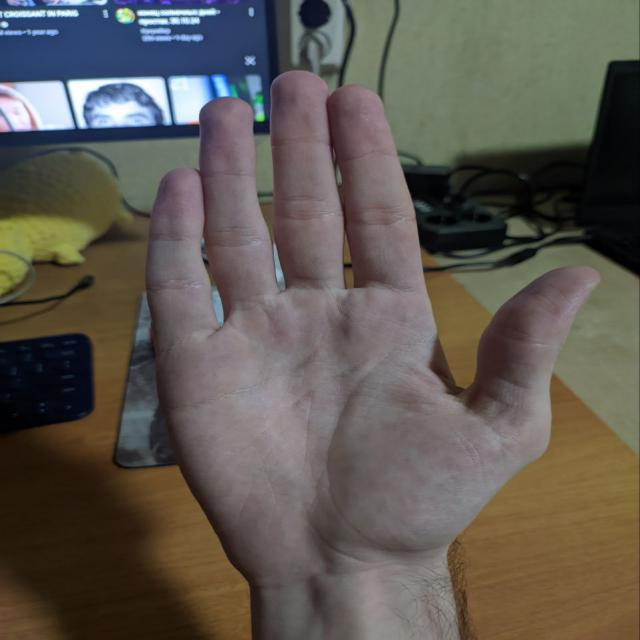v: (111, 75, 640, 528)
